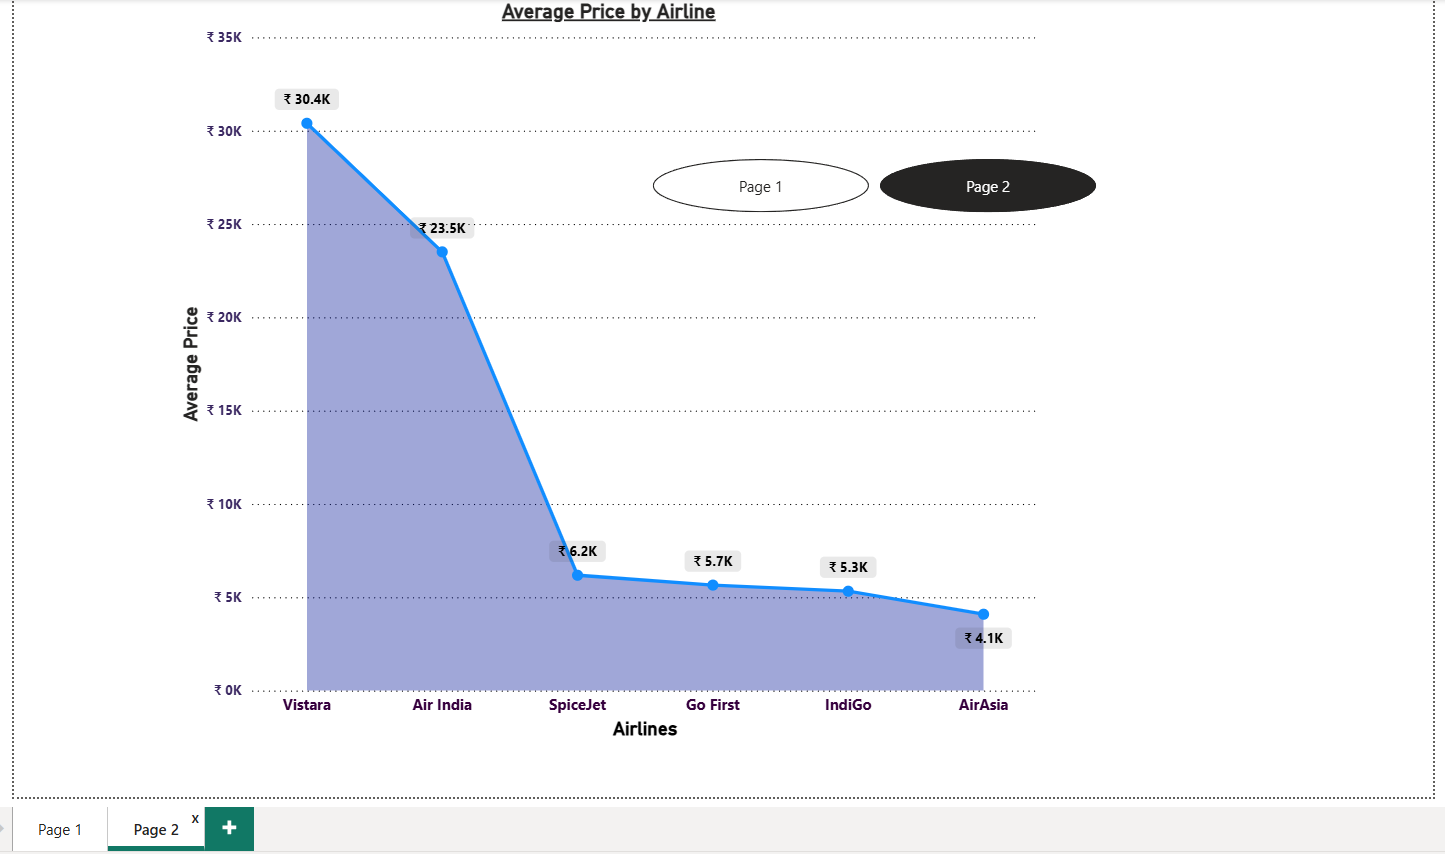

Layout of this report page (visuals, bound fields, positions):
{"tool":"powerbi","page":{"name":"Page 2","canvas":[1280,720],"ordinal":1},"visuals":[{"type":"areaChart","title":"Average Price by Airline","fields":{"Category":["Airlines.airline"],"Y":["Airlines.Average Price"]},"box":[144,0,784,672],"z":0},{"type":"pageNavigator","box":[576,144,400,48],"z":1}]}

Visuals, with their boxes on the page's 1280x720 design canvas (x1, y1, x2, y2). These are canvas units, not pixel positions in the 1445x854 screenshot, which may show the page scaled, cropped or inside an application window:
"Average Price by Airline" areaChart: x1=144 y1=0 x2=928 y2=672
pageNavigator: x1=576 y1=144 x2=976 y2=192
